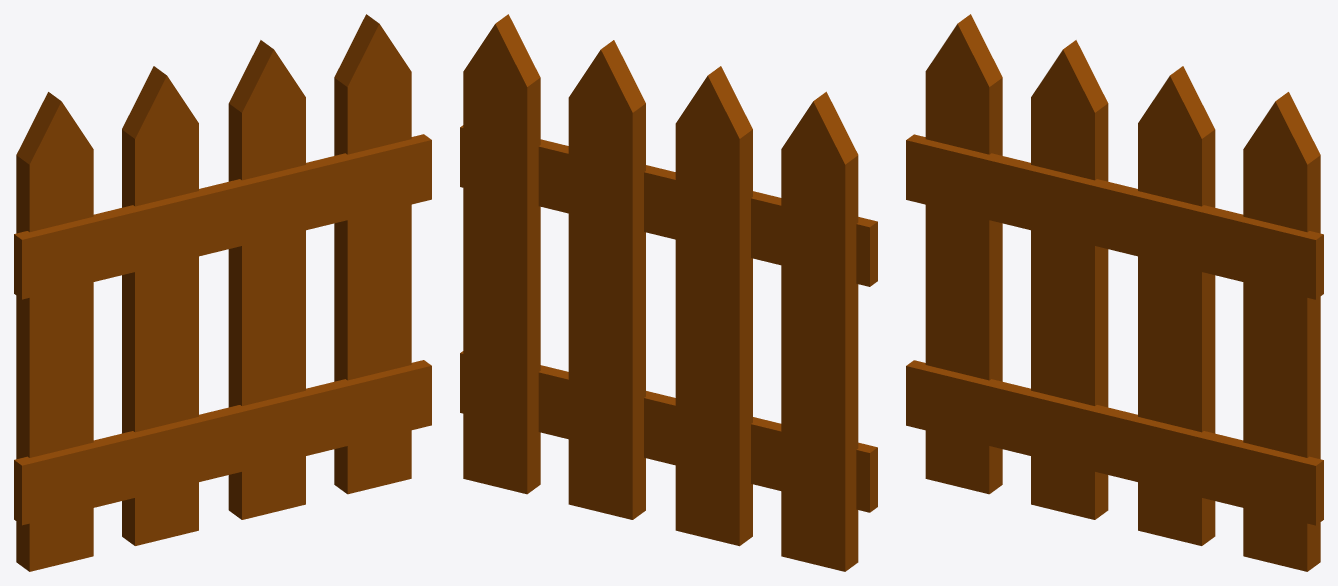
Rendered from fence wood3.fbx.
3 views of the same model, side by side, from view 1: azimuth 30°, elevation 25°; view 2: azimuth 150°, elevation 25°; view 3: azimuth 330°, elevation 25° (orthographic).
Visible parts, largest first — view 1: fence wood 3; view 2: fence wood 3; view 3: fence wood 3.
Boxes of the visible parts, x1,y1,x2,y2 form: fence wood 3: [14, 14, 431, 571]; fence wood 3: [460, 14, 877, 571]; fence wood 3: [906, 14, 1323, 571].
Bounding box in the file's own units: 47.22 × 50.97 × 3.83.
